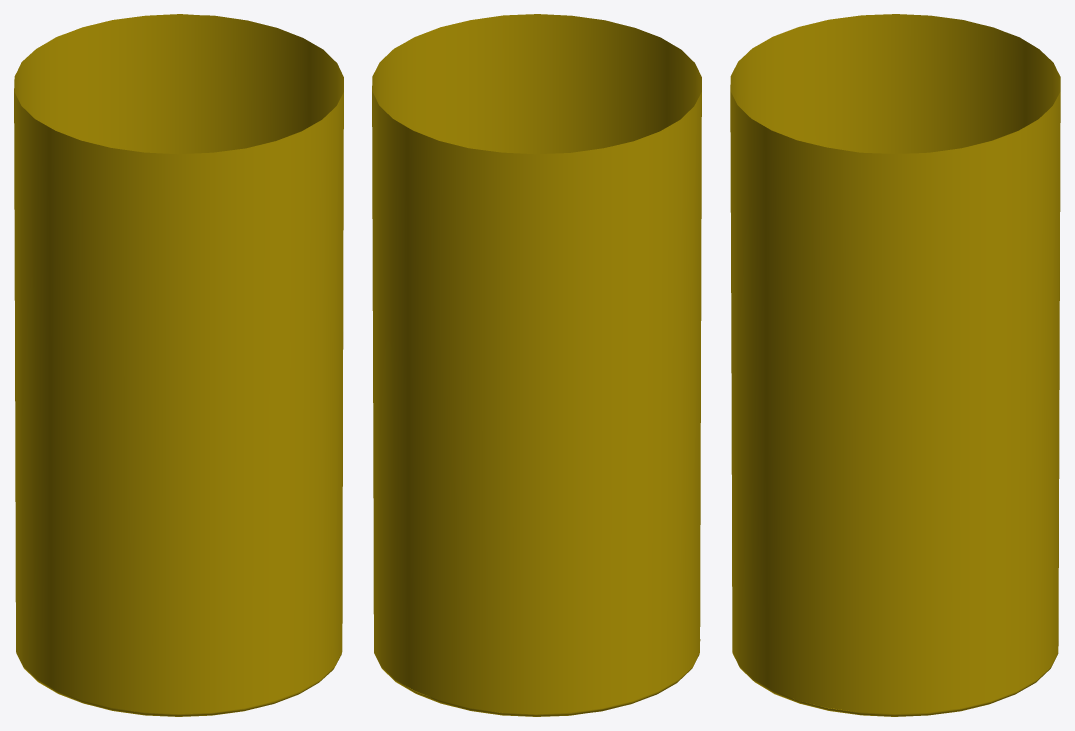
Rendered from original-2.obj.
3 views of the same model, side by side, from view 1: azimuth 30°, elevation 25°; view 2: azimuth 150°, elevation 25°; view 3: azimuth 270°, elevation 25° (orthographic).
Visible parts, largest first — view 1: group_1/ID15#ID15; view 2: group_1/ID15#ID15; view 3: group_1/ID15#ID15.
Boxes of the visible parts, box(x1,y1,x2,y2) form: group_1/ID15#ID15: box(14, 14, 343, 716); group_1/ID15#ID15: box(372, 14, 701, 716); group_1/ID15#ID15: box(730, 14, 1060, 716).
Bounding box in the file's own units: 0.1185 × 0.223 × 0.118.
